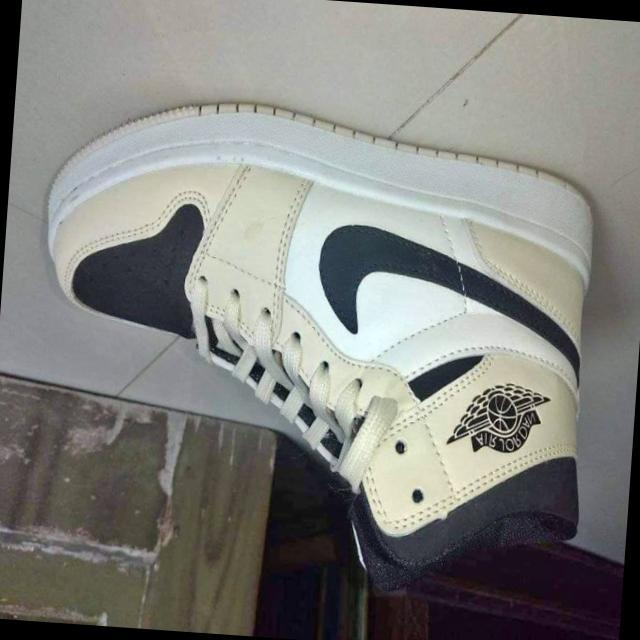nike fake jordan 1: (20, 90, 605, 614)
